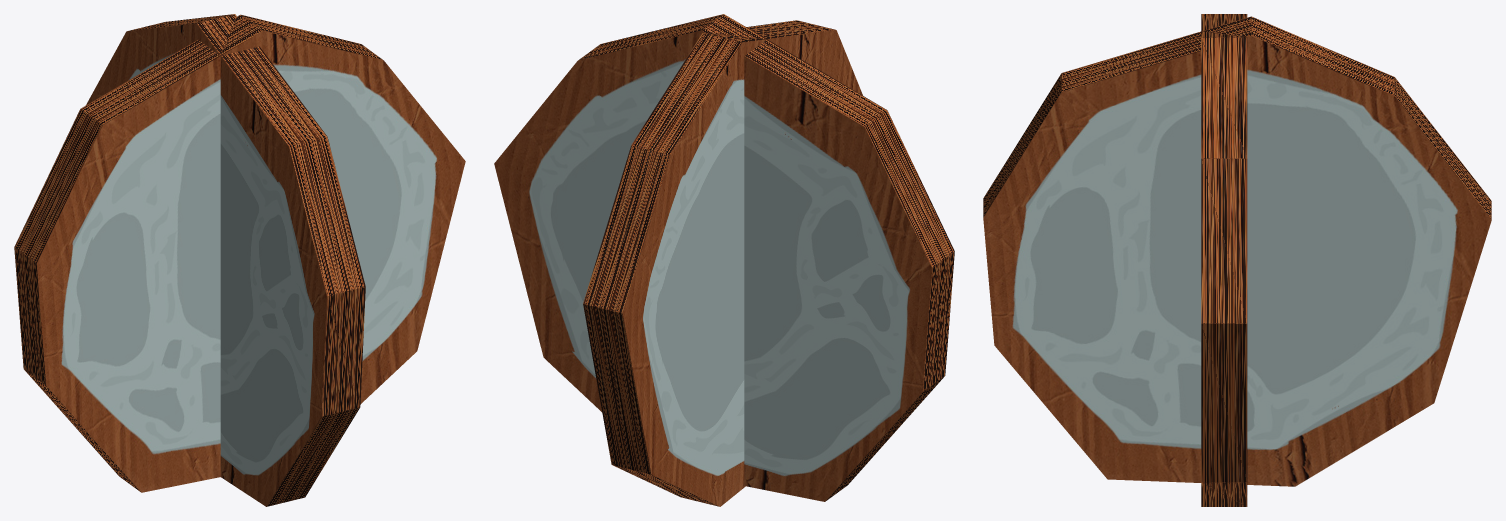
The model's file is moon.fbx.
3 renders of one model, left to right at view 1: azimuth 30°, elevation 25°; view 2: azimuth 150°, elevation 25°; view 3: azimuth 270°, elevation 25°, orthographic. The views are drawn at different scales.
Parts seen in each view (by area): view 1: polySurface1; view 2: polySurface1; view 3: polySurface1.
Boxes of the visible parts, x1,y1,x2,y2 form: polySurface1: [14, 14, 465, 506]; polySurface1: [494, 14, 954, 506]; polySurface1: [983, 14, 1491, 506].
Bounding box in the file's own units: 11.43 × 11.18 × 11.43.
